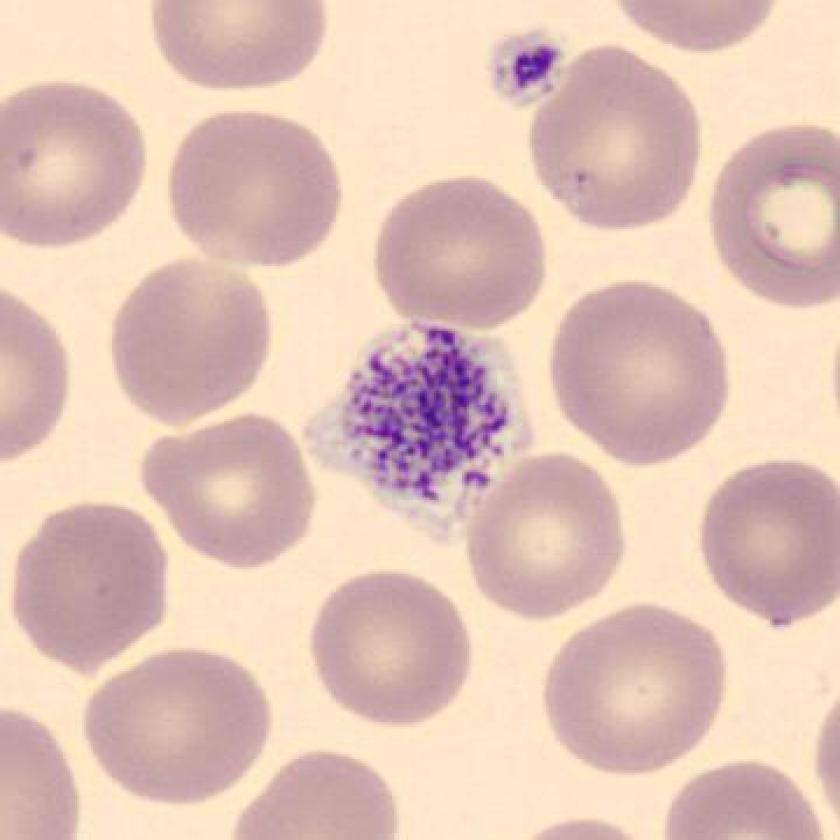platelets: (293, 311, 554, 559)
